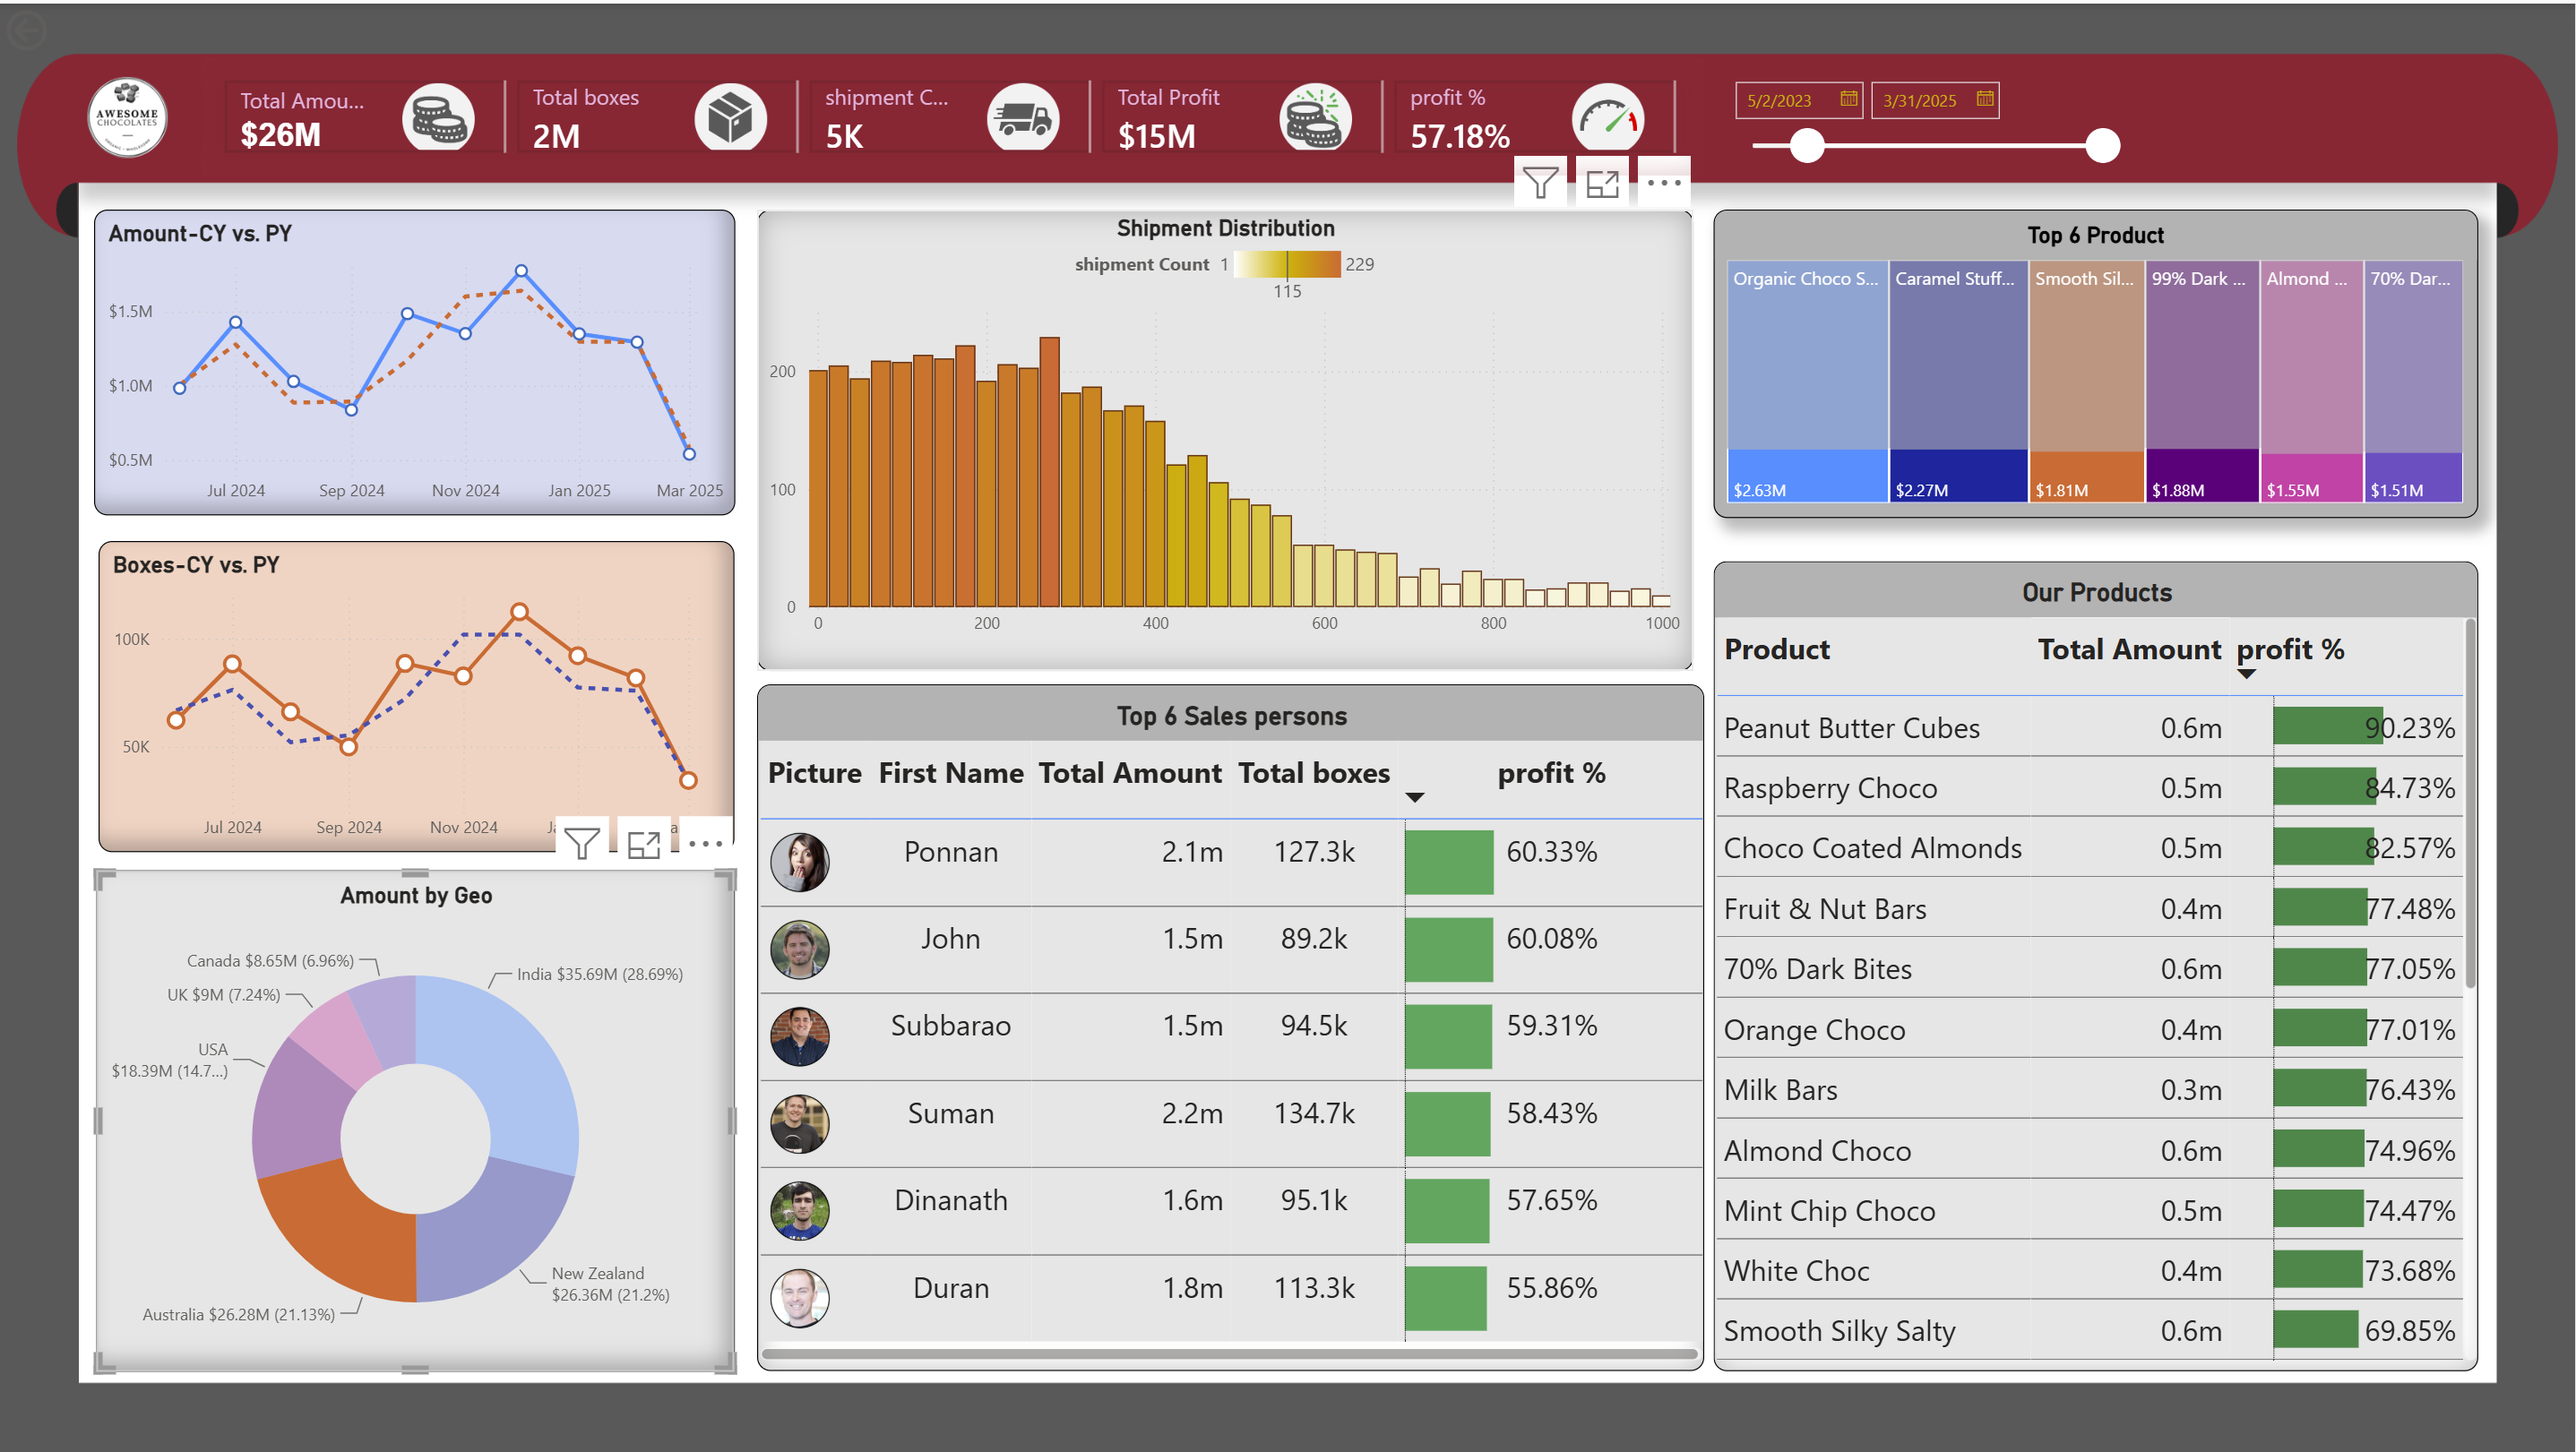

The dashboard page shown, as its layout file describes it:
{"tool":"powerbi","page":{"name":"Page 8","canvas":[1920,1080],"ordinal":7},"visuals":[{"type":"lineChart","title":"Amount-CY vs. PY","fields":{"Y":["shipments.Total Amount","shipments.Total amount(last year)"],"Category":["calendar.Start of Month"]},"box":[70,154,478,228],"z":0},{"type":"lineChart","title":"Boxes-CY vs. PY","fields":{"Category":["calendar.Start of Month"],"Y":["shipments.Total boxes","calendar.Total Boxes(last year)"]},"box":[74,400,474,232],"z":1000},{"type":"donutChart","title":"Amount by Geo","fields":{"Category":["locations.Geo"],"Y":["shipments.Total Amount"]},"box":[72,646,476,374],"z":2000},{"type":"clusteredColumnChart","title":"Shipment Distribution","fields":{"Category":["shipments.Boxes (bins)"],"Y":["shipments.shipment Count"]},"box":[564,154,698,344],"z":3000},{"type":"tableEx","title":"Top 6 Sales persons","fields":{"Values":["people.Picture","people.First Name","shipments.Total Amount","shipments.Total boxes","shipments.profit %"]},"box":[564,508,706,512],"z":4000},{"type":"treemap","title":"Top 6 Product","fields":{"Values":["shipments.Total Amount"],"Group":["products.Product"]},"box":[1278,154,570,230],"z":5000},{"type":"actionButton","box":[0,0,100,40],"z":6000},{"type":"tableEx","title":"Our Products","fields":{"Values":["products.Product","shipments.Total Amount","shipments.profit %"]},"box":[1278,416,570,604],"z":7000},{"type":"cardVisual","fields":{"Data":["shipments.Total Amount","shipments.Total boxes","shipments.shipment Count","shipments.Total Profit","shipments.profit %"]},"box":[150,40,1120,88],"z":8000},{"type":"slicer","fields":{"Values":["calendar.cal_date"]},"box":[1280,48,308,72],"z":9000}]}

Visuals, with their boxes in screenshot pixels (x1, y1, x2, y2), scaled from the page's 1920x1080 canvas onto the 2576x1452 screenshot:
"Amount-CY vs. PY" lineChart: [x1=94, y1=207, x2=736, y2=513]
"Boxes-CY vs. PY" lineChart: [x1=99, y1=537, x2=736, y2=850]
"Amount by Geo" donutChart: [x1=97, y1=869, x2=736, y2=1371]
"Shipment Distribution" clusteredColumnChart: [x1=757, y1=207, x2=1693, y2=669]
"Top 6 Sales persons" tableEx: [x1=757, y1=683, x2=1704, y2=1371]
"Top 6 Product" treemap: [x1=1715, y1=207, x2=2479, y2=516]
actionButton: [x1=0, y1=0, x2=134, y2=54]
"Our Products" tableEx: [x1=1715, y1=559, x2=2479, y2=1371]
cardVisual - shipments.Total Amount x shipments.Total boxes: [x1=202, y1=54, x2=1704, y2=172]
slicer - calendar.cal_date: [x1=1718, y1=64, x2=2131, y2=161]
